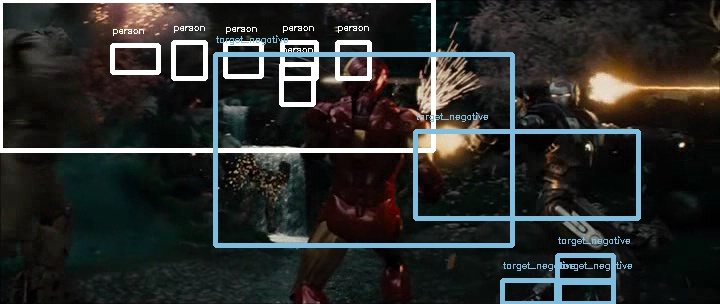person: (336, 49, 387, 98), (335, 49, 386, 98), (337, 49, 388, 98), (336, 48, 387, 97), (336, 50, 387, 99)
target_negative: (121, 58, 636, 271), (271, 274, 666, 302), (496, 67, 556, 194), (84, 266, 231, 297), (624, 72, 655, 170), (509, 262, 658, 277)
